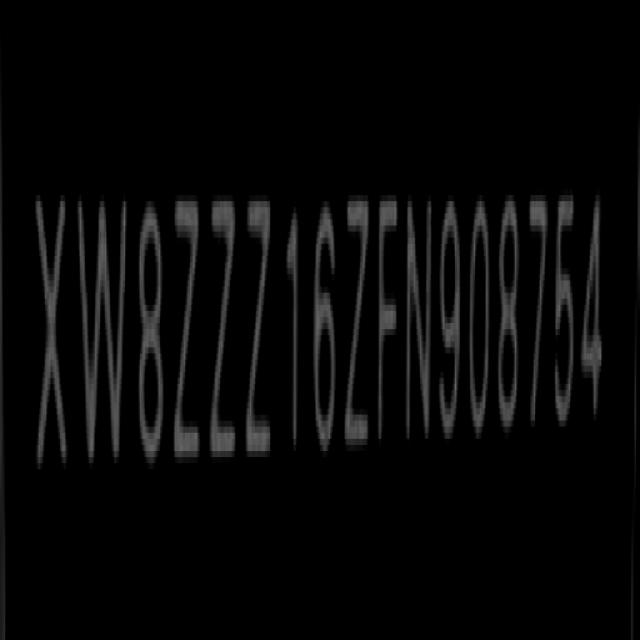0: (466, 189, 490, 448)
1: (284, 188, 306, 469)
4: (580, 186, 604, 438)
5: (554, 185, 578, 442)
6: (312, 190, 339, 469)
7: (526, 183, 551, 446)
8: (138, 196, 164, 484), (498, 186, 524, 447)
9: (437, 189, 462, 451)
F: (380, 183, 403, 462)
N: (406, 188, 434, 455)
W: (77, 185, 132, 488)
X: (36, 182, 70, 493)
Z: (208, 184, 240, 480), (174, 187, 204, 480), (247, 188, 275, 472), (345, 185, 373, 467)
